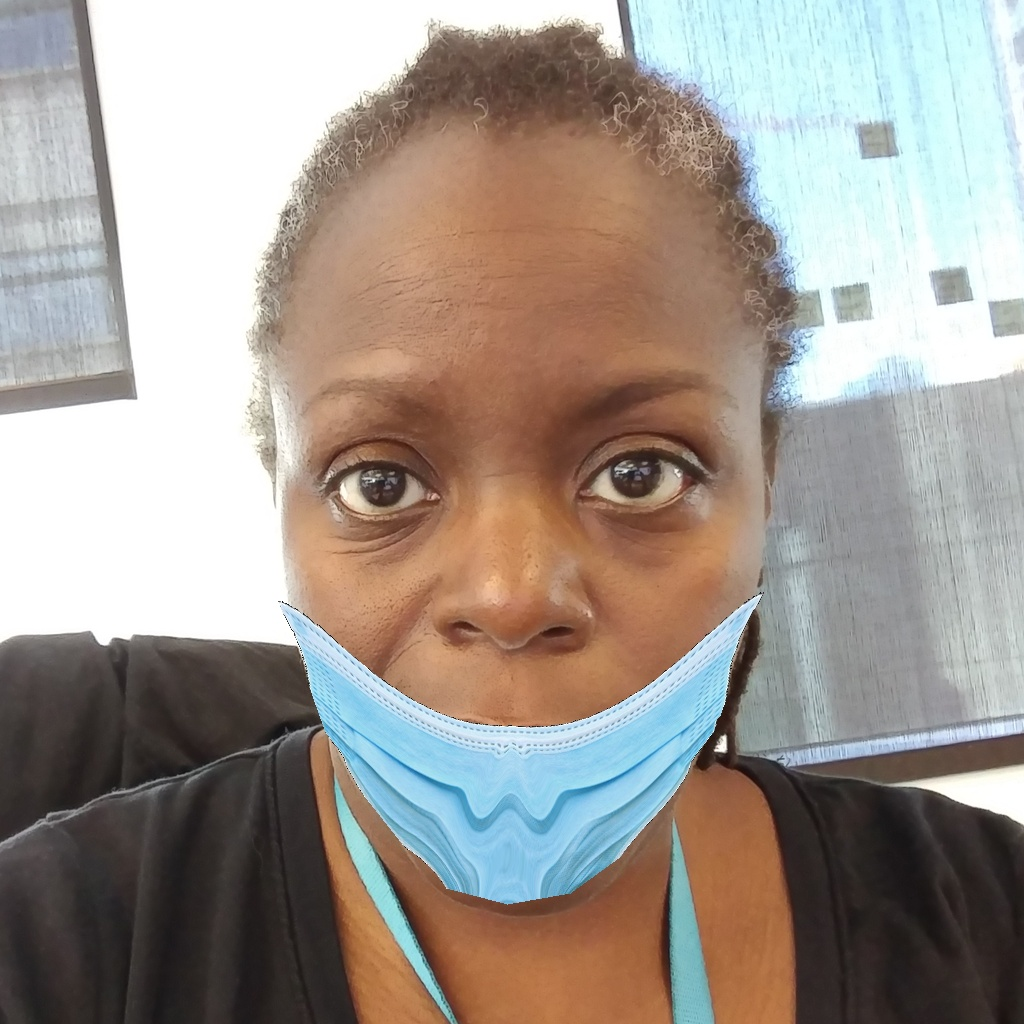mascarilla_mal_puesta: (282, 445, 764, 908)
